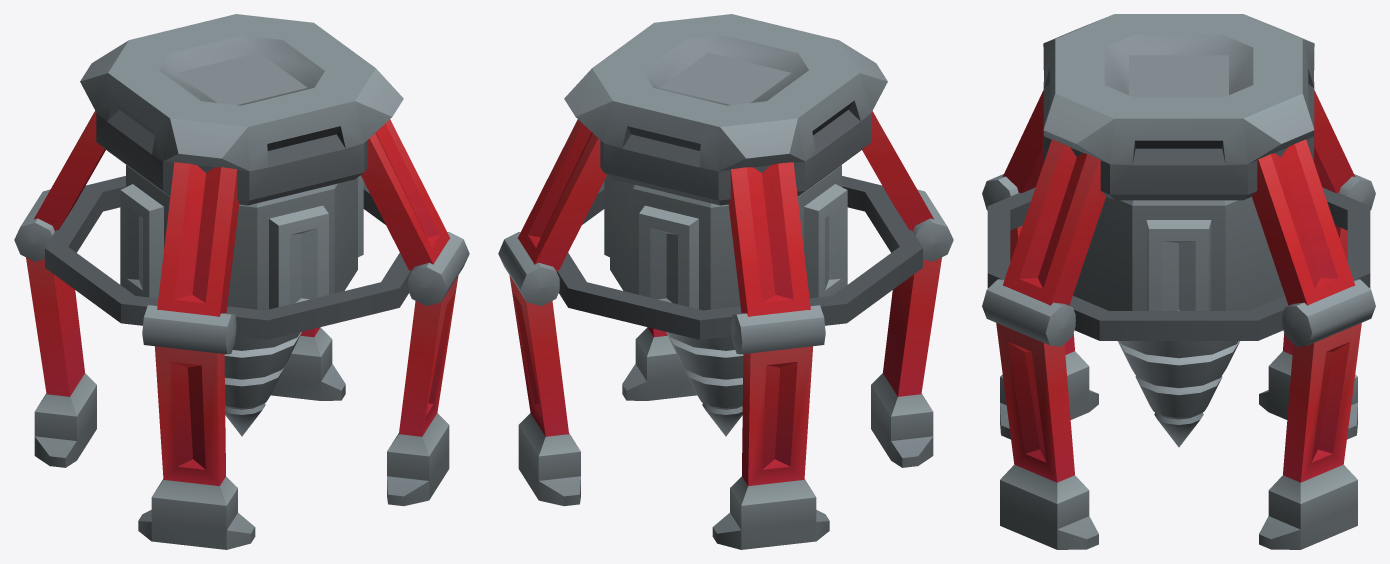
File: Drill-transformed.glb
3 views of the same model, side by side, from view 1: azimuth 30°, elevation 25°; view 2: azimuth 150°, elevation 25°; view 3: azimuth 270°, elevation 25° (orthographic). The views are drawn at different scales.
Parts seen in each view (by area): view 1: drill_structure; view 2: drill_structure; view 3: drill_structure.
Boxes of the visible parts, x1,y1,x2,y2 form: drill_structure: (14, 14, 469, 549); drill_structure: (498, 14, 953, 549); drill_structure: (982, 14, 1375, 549).
Bounding box in the file's own units: 1.75 × 2 × 1.75.
1 material, 1 textured.
